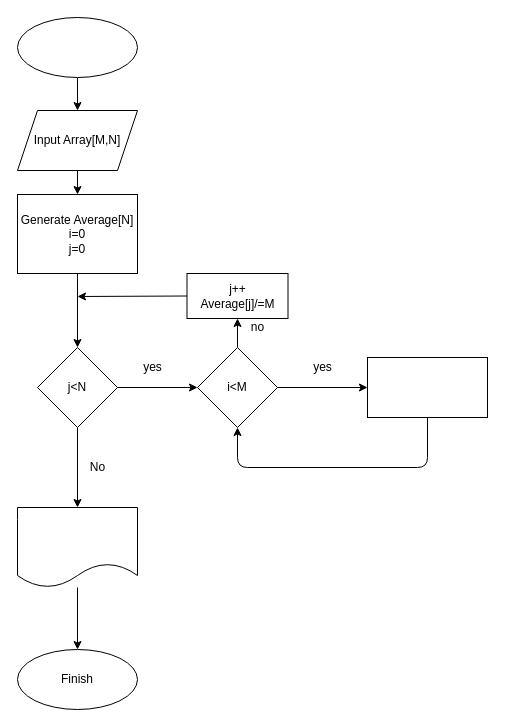
Some shapes in this 505 by 727 pixel diagram are drawn without their labels. The shapes that lost their labels are listed below. From the top down, each one's centre as x and y in pixels, then its label:
the point at 77,47: Start
the point at 427,387: Average[j]+ = Array[i,j] i++;
the point at 77,547: Print Average
